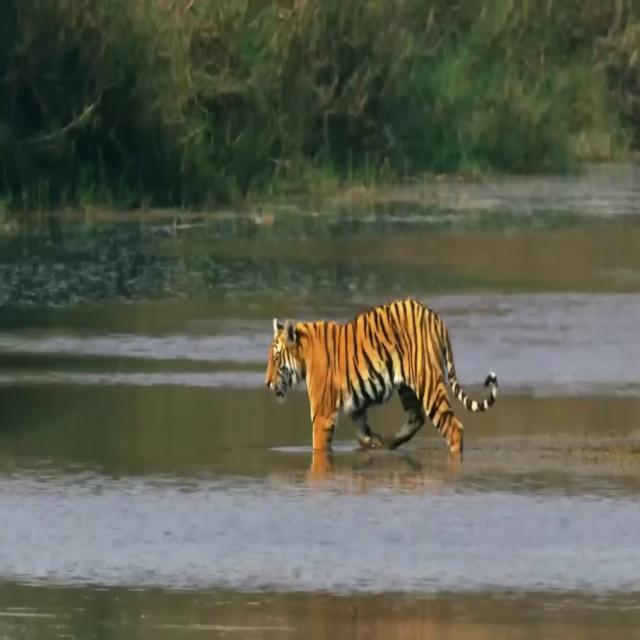tiger: (265, 297, 499, 478)
